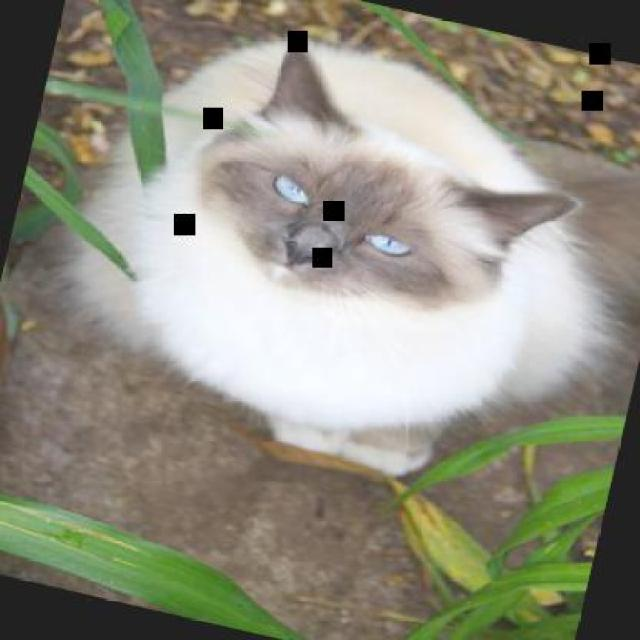cat: (36, 0, 638, 525)
